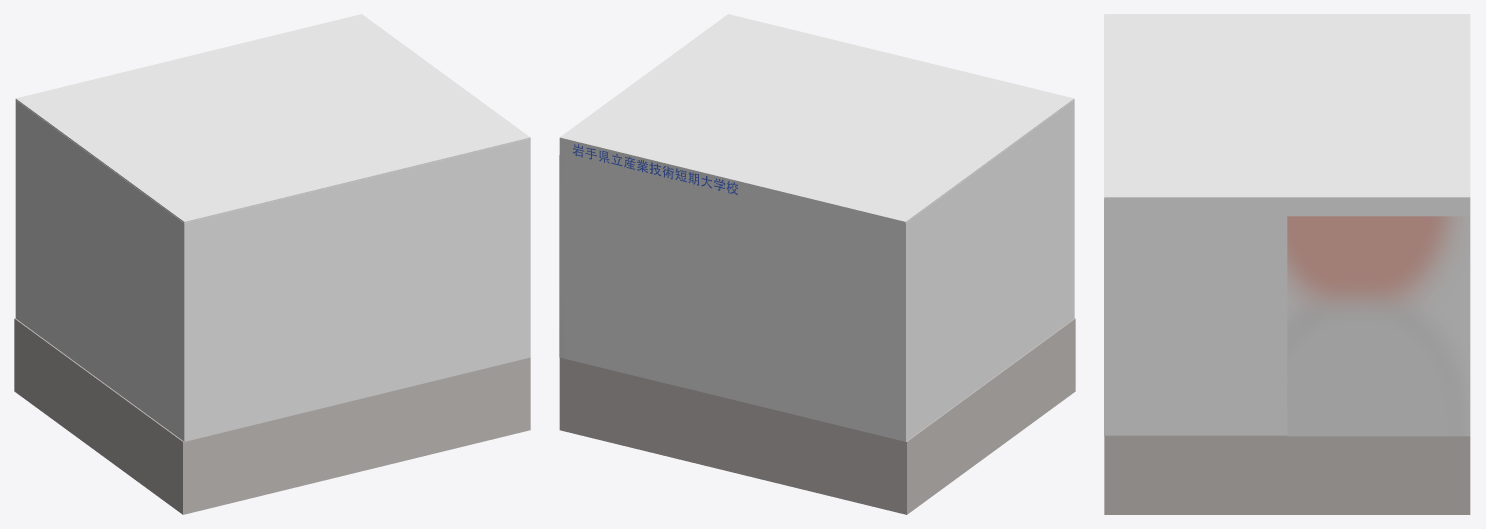
File: densi.glb
3 renders of one model, left to right at view 1: azimuth 30°, elevation 25°; view 2: azimuth 150°, elevation 25°; view 3: azimuth 270°, elevation 25°, orthographic. The views are drawn at different scales.
Visible parts, largest first — view 1: 本校舎2F・土台.001, 立方体.036, 本校舎1F・土台.001; view 2: 本校舎2F・土台.001, 立方体.036, 本校舎1F・土台.001, ラウンジ・土台, 岩手県立産業技術短期大学校・側面; view 3: 立方体.036, 本校舎2F・土台.001, ラウンジ・土台, 本校舎1F・土台.001.
Part boxes in pixels (left/top/right/bottom): 本校舎2F・土台.001: left=15, top=100, right=530, bottom=441; 立方体.036: left=15, top=14, right=530, bottom=222; 本校舎1F・土台.001: left=14, top=318, right=530, bottom=514; 本校舎2F・土台.001: left=675, top=100, right=1074, bottom=441; 立方体.036: left=559, top=14, right=1074, bottom=239; 本校舎1F・土台.001: left=559, top=318, right=1075, bottom=514; ラウンジ・土台: left=559, top=155, right=675, bottom=385; 岩手県立産業技術短期大学校・側面: left=573, top=144, right=737, bottom=194; 立方体.036: left=1104, top=14, right=1470, bottom=216; 本校舎2F・土台.001: left=1104, top=15, right=1287, bottom=435; ラウンジ・土台: left=1287, top=216, right=1470, bottom=436; 本校舎1F・土台.001: left=1104, top=435, right=1470, bottom=514.
Bounding box in the file's own units: 5.93 × 4.77 × 5.01.
Materials: 2 (2 with a texture image).
